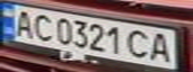0: (51, 16, 72, 46)
1: (103, 24, 127, 56)
2: (87, 20, 106, 53)
3: (69, 18, 90, 51)
A: (148, 30, 178, 63), (9, 7, 39, 38)
C: (124, 27, 154, 61), (30, 11, 57, 42)
